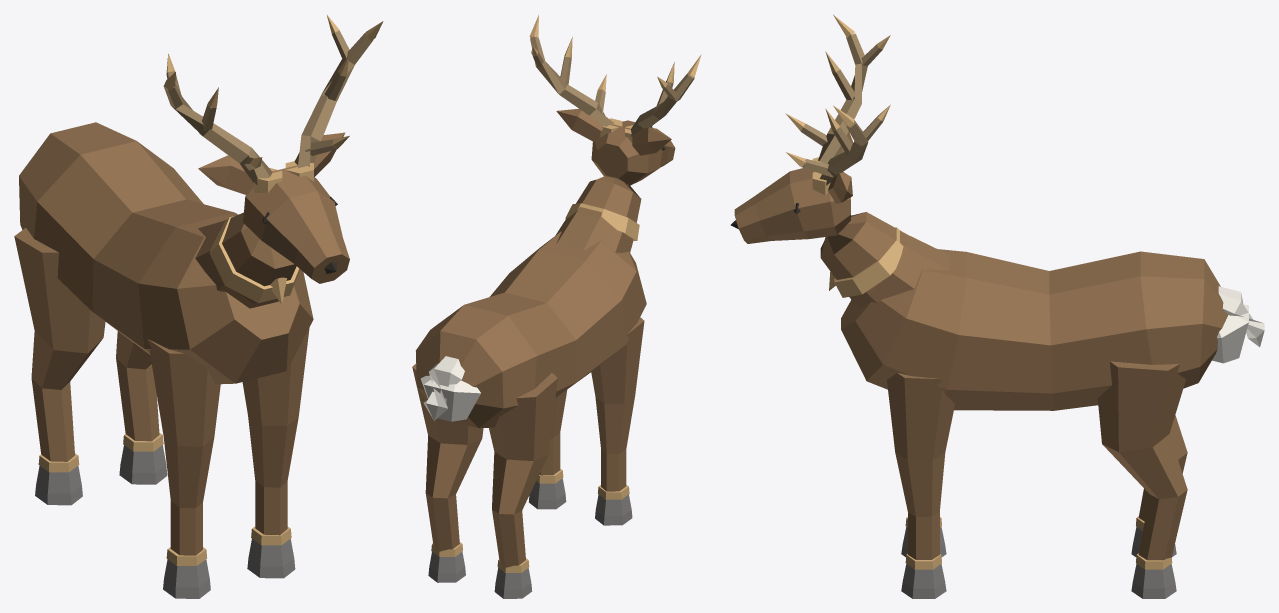
The model's file is cr-fellbuck.glb.
3 renders of one model, left to right at view 1: azimuth 30°, elevation 25°; view 2: azimuth 150°, elevation 25°; view 3: azimuth 270°, elevation 25°, orthographic. The views are drawn at different scales.
Visible parts, largest first — view 1: body, leg_rl, leg_fl, head, leg_fr, neck, antler_r, leg_rr, antler_l, collar, hoof_fr, hoof_rl (+3 smaller); view 2: body, leg_rl, leg_rr, leg_fl, neck, head, antler_r, antler_l, rump_patch, tail, hoof_fl, hoof_rr (+6 smaller); view 3: body, leg_rr, leg_fr, neck, head, antler_l, antler_r, collar, hoof_fr, hoof_rr, rump_patch, tail (+1 smaller).
Boxes of the visible parts, <box> form: body: <box>19,122,313,384</box>; leg_rl: <box>14,228,105,461</box>; leg_fl: <box>147,339,220,555</box>; head: <box>243,165,349,283</box>; leg_fr: <box>242,327,309,535</box>; neck: <box>195,212,296,308</box>; antler_r: <box>285,14,383,181</box>; leg_rr: <box>116,331,159,441</box>; antler_l: <box>163,53,282,192</box>; collar: <box>209,216,300,304</box>; hoof_fr: <box>247,526,295,578</box>; hoof_rl: <box>35,453,82,505</box>; body: <box>416,231,646,428</box>; leg_rl: <box>489,373,557,567</box>; leg_rr: <box>412,363,483,551</box>; leg_fl: <box>591,317,644,491</box>; neck: <box>555,176,641,253</box>; head: <box>591,120,675,185</box>; antler_r: <box>529,15,622,137</box>; antler_l: <box>625,54,701,142</box>; rump_patch: <box>420,375,480,421</box>; tail: <box>423,356,464,420</box>; hoof_fl: <box>595,485,632,525</box>; hoof_rr: <box>428,542,465,582</box>; body: <box>841,249,1228,410</box>; leg_rr: <box>1097,361,1187,560</box>; leg_fr: <box>887,373,954,559</box>; neck: <box>820,212,949,308</box>; head: <box>730,168,850,243</box>; antler_l: <box>785,14,890,163</box>; antler_r: <box>786,104,890,194</box>; collar: <box>829,227,903,297</box>; hoof_fr: <box>901,554,946,598</box>; hoof_rr: <box>1131,553,1176,598</box>; rump_patch: <box>1212,304,1248,363</box>; tail: <box>1218,286,1264,347</box>.
Size of what is drawn, in the model's own units: 0.5979 by 1.55 by 1.46.
